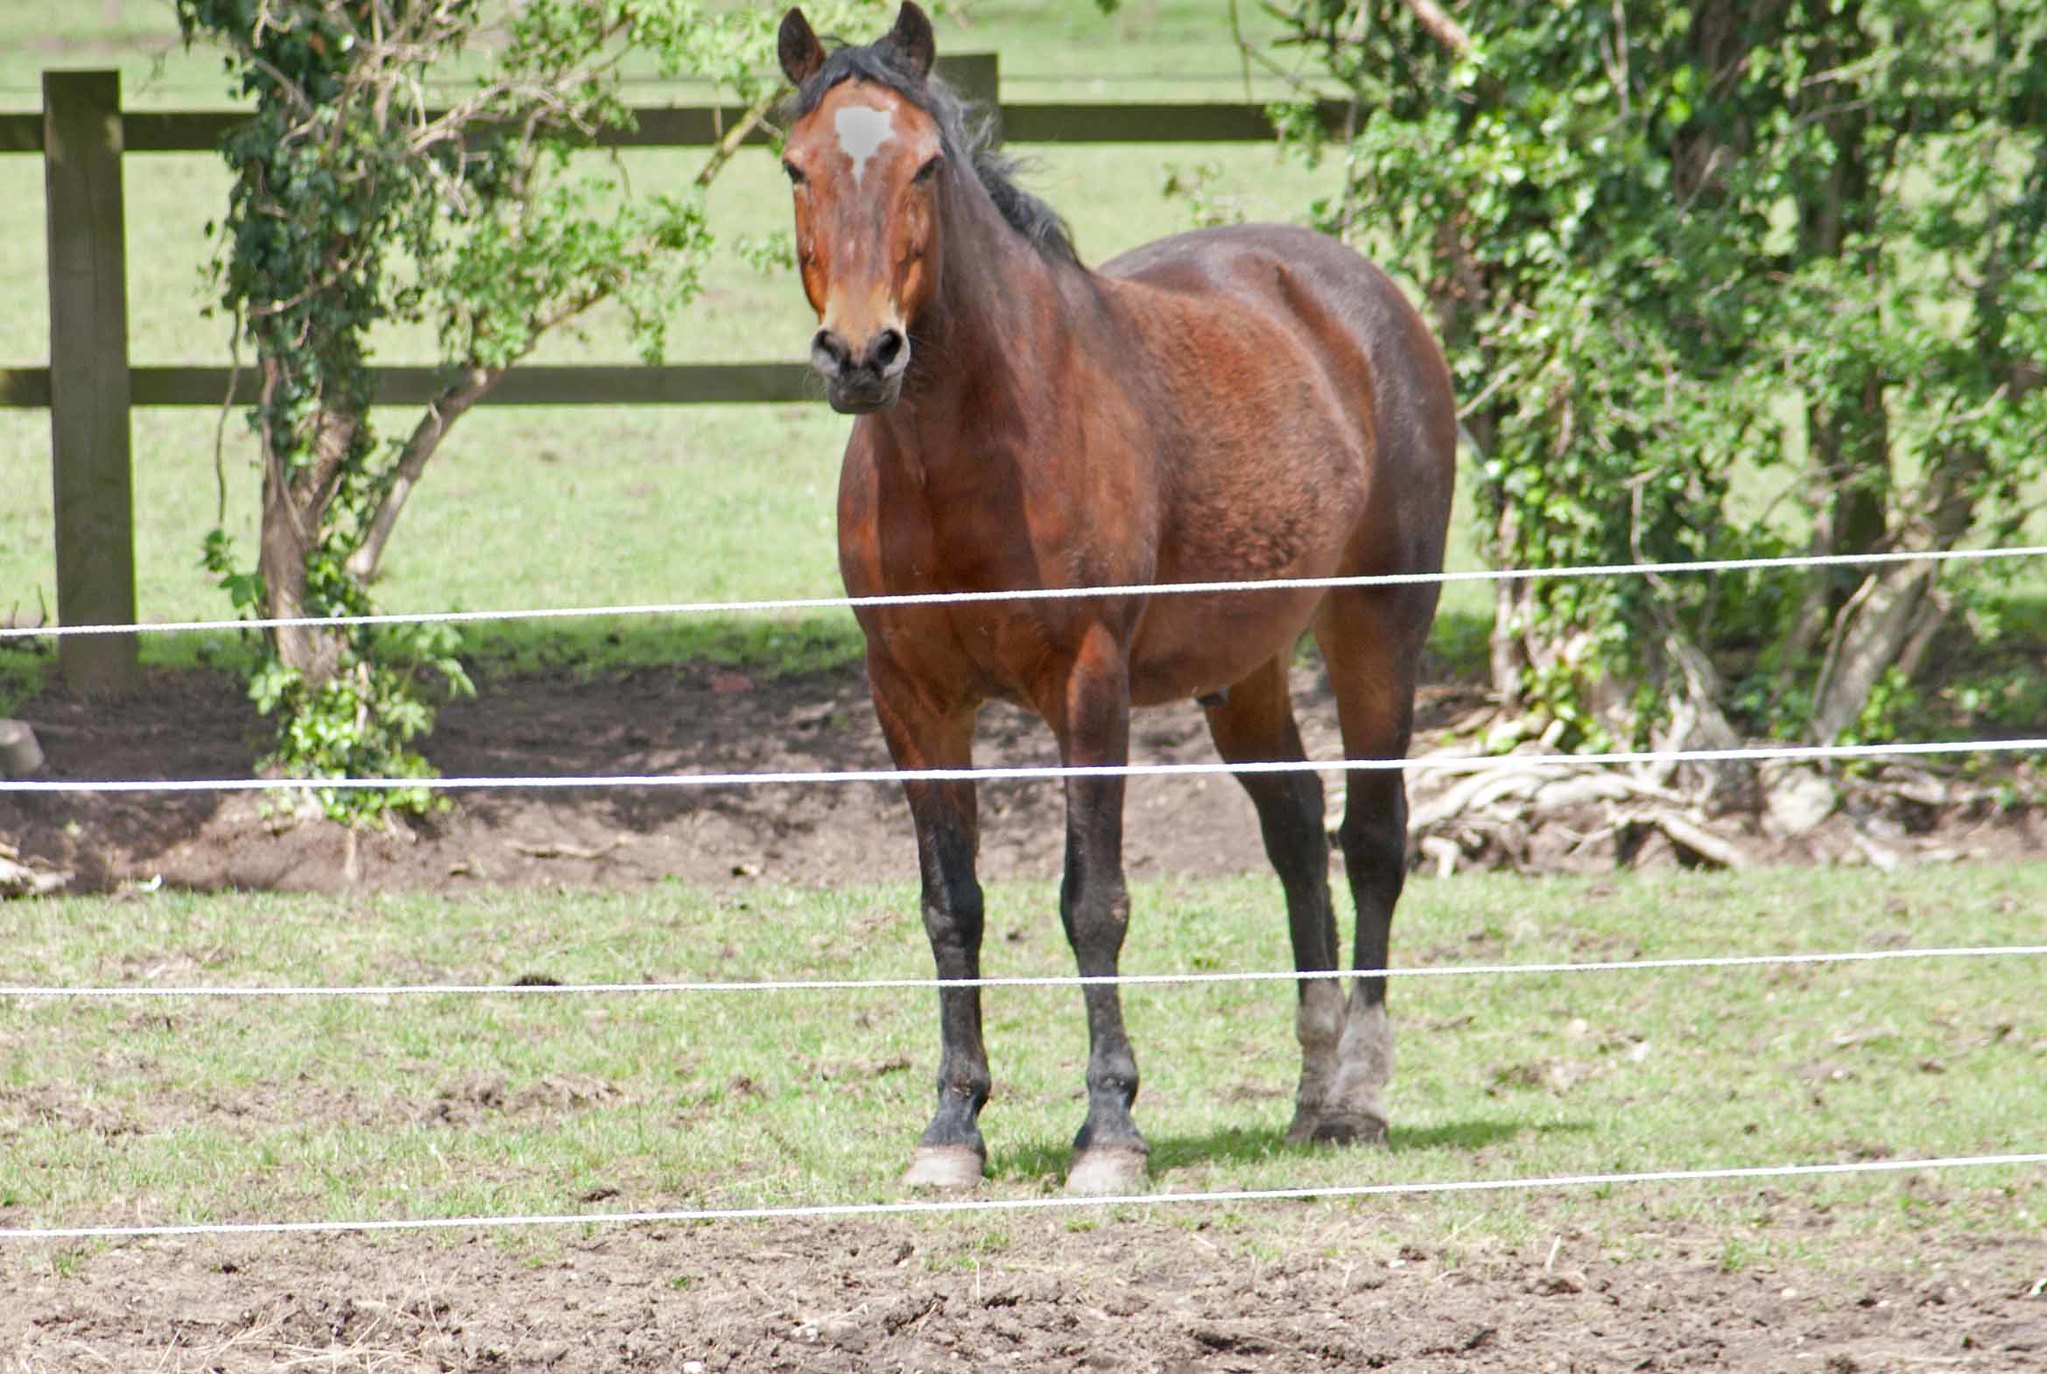horse: (767, 14, 1457, 1201)
